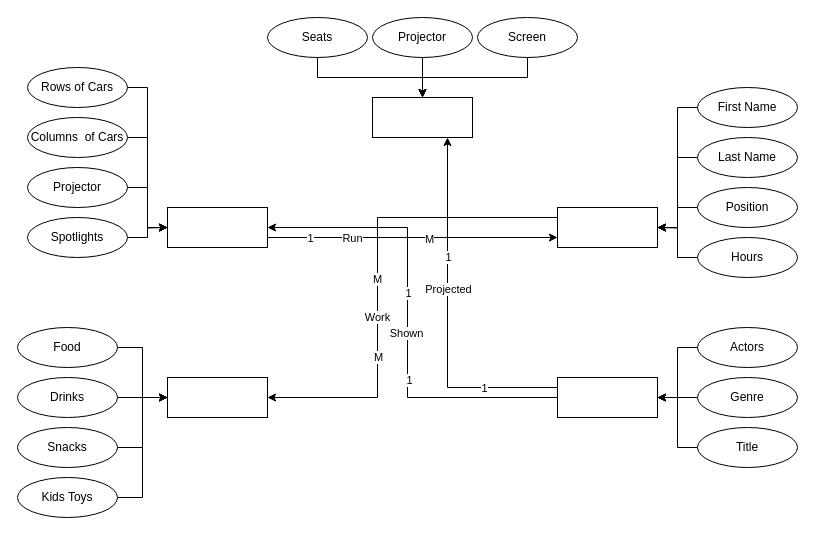
Image size: 815x535. Some labels were removed from this diagram. The shapes that lost their labels are listed below. From the top down, each one's box as (x1, y1, x2, y2) in pixels, then its label:
(372, 96, 472, 138): Screening Room
(166, 206, 268, 248): Outdoor Lot
(556, 206, 658, 248): Employees
(166, 376, 268, 418): Concession Stand
(556, 376, 658, 418): Movie
